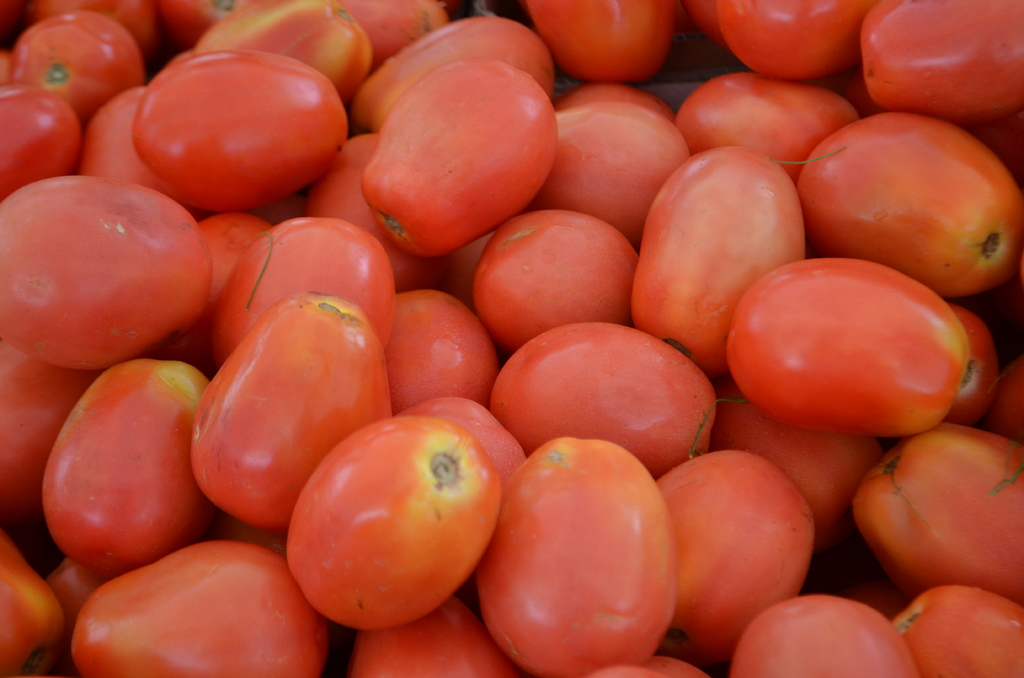Tomato: (0, 0, 1023, 677), (718, 252, 974, 444)
